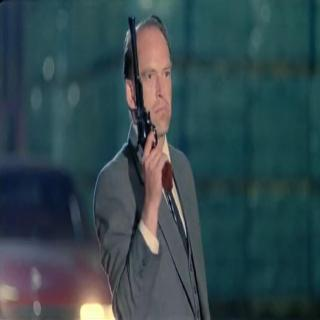gun: (126, 15, 175, 197)
